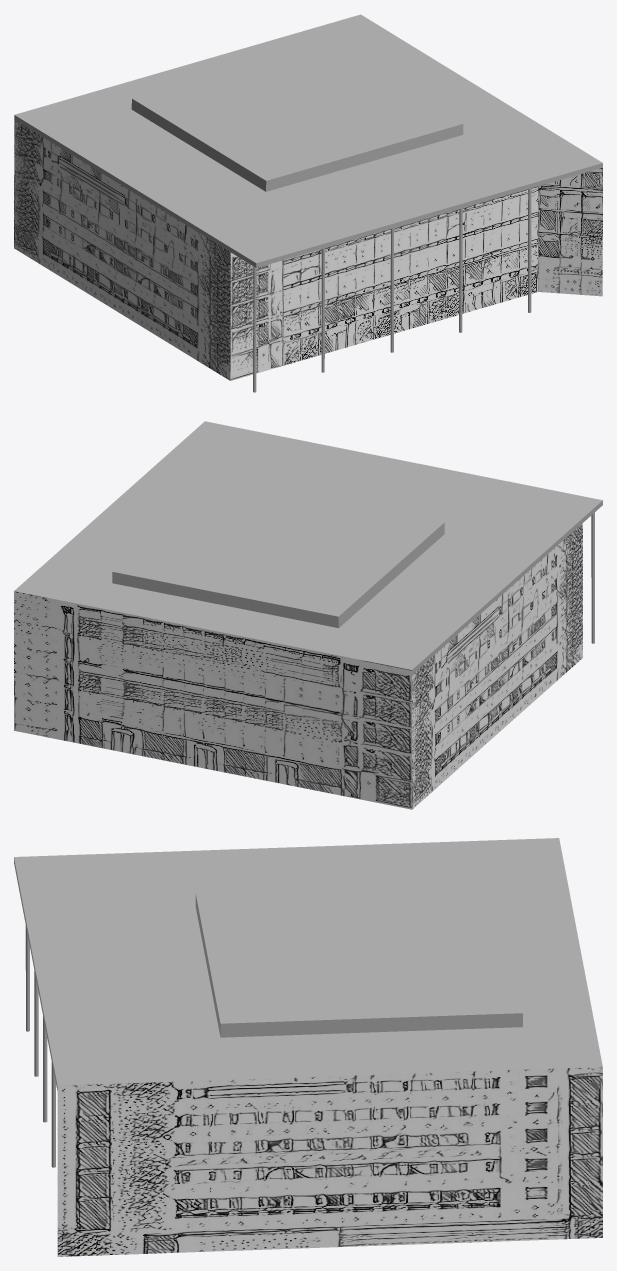
Rendered from hoersaalzentrum.gltf.
3 views of the same model, one above another, from view 1: azimuth 30°, elevation 25°; view 2: azimuth 150°, elevation 25°; view 3: azimuth 270°, elevation 25° (orthographic). The views are drawn at different scales.
Parts seen in each view (by area): view 1: Dach.1; view 2: Dach.1; view 3: Dach.1.
Boxes of the visible parts, x1,y1,x2,y2 form: Dach.1: [14, 14, 602, 392]; Dach.1: [14, 421, 602, 809]; Dach.1: [14, 838, 602, 1256].
Size of the model in its own units: 65.59 by 23.13 by 66.21.
7 materials, 6 textured.
